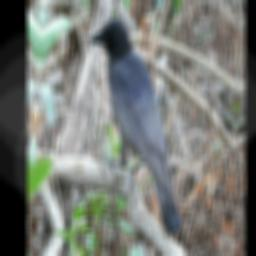Crow: (76, 10, 196, 244)
